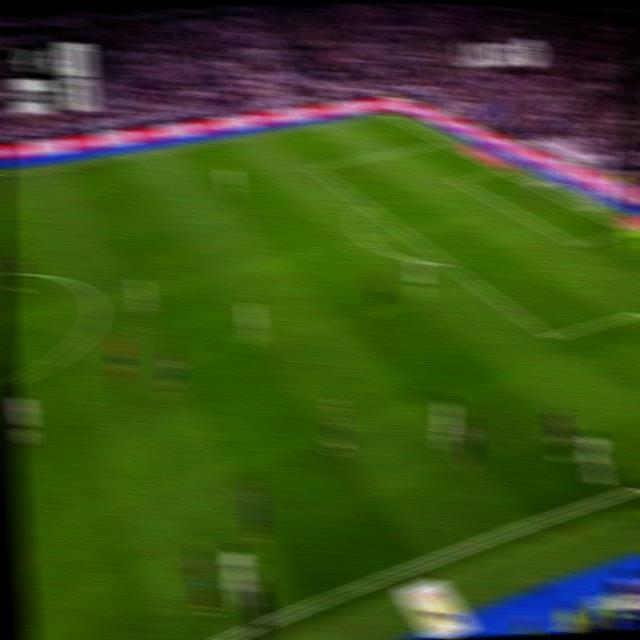bigarea_bottom_inner: (541, 326, 562, 347)
bigarea_top_inner: (306, 160, 323, 174)
bottom_arc_area_intersection: (439, 255, 457, 272)
corner: (380, 110, 397, 119)
smallarea_bottom_inner: (568, 236, 586, 252)
smallarea_top_inner: (451, 174, 466, 184)
top_arc_area_intersection: (358, 197, 376, 211)
